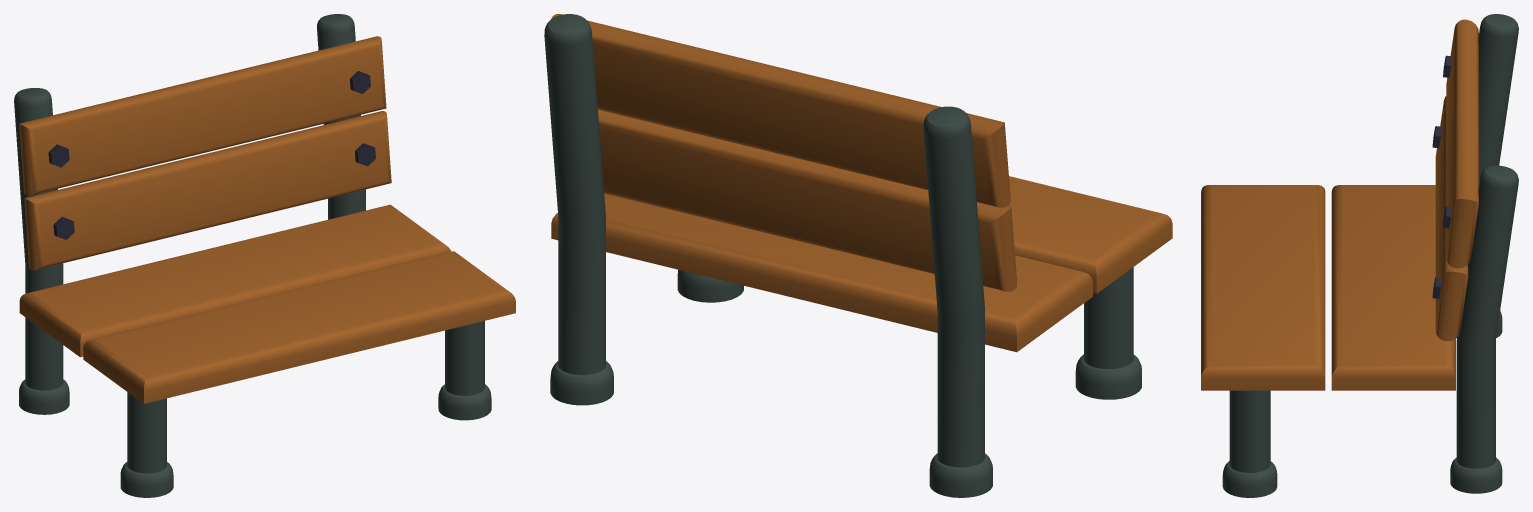
File: Bench.glb
3 renders of one model, left to right at view 1: azimuth 30°, elevation 25°; view 2: azimuth 150°, elevation 25°; view 3: azimuth 270°, elevation 25°, orthographic. The views are drawn at different scales.
Visible parts, largest first — view 1: Bench.001; view 2: Bench.001; view 3: Bench.001.
Boxes of the visible parts, left/top/right/bottom form: Bench.001: left=14, top=14, right=515, bottom=497; Bench.001: left=544, top=14, right=1172, bottom=497; Bench.001: left=1201, top=14, right=1518, bottom=497.
Bounding box in the file's own units: 1.07 × 0.8384 × 0.7728.
Materials: 2 (2 with a texture image).
